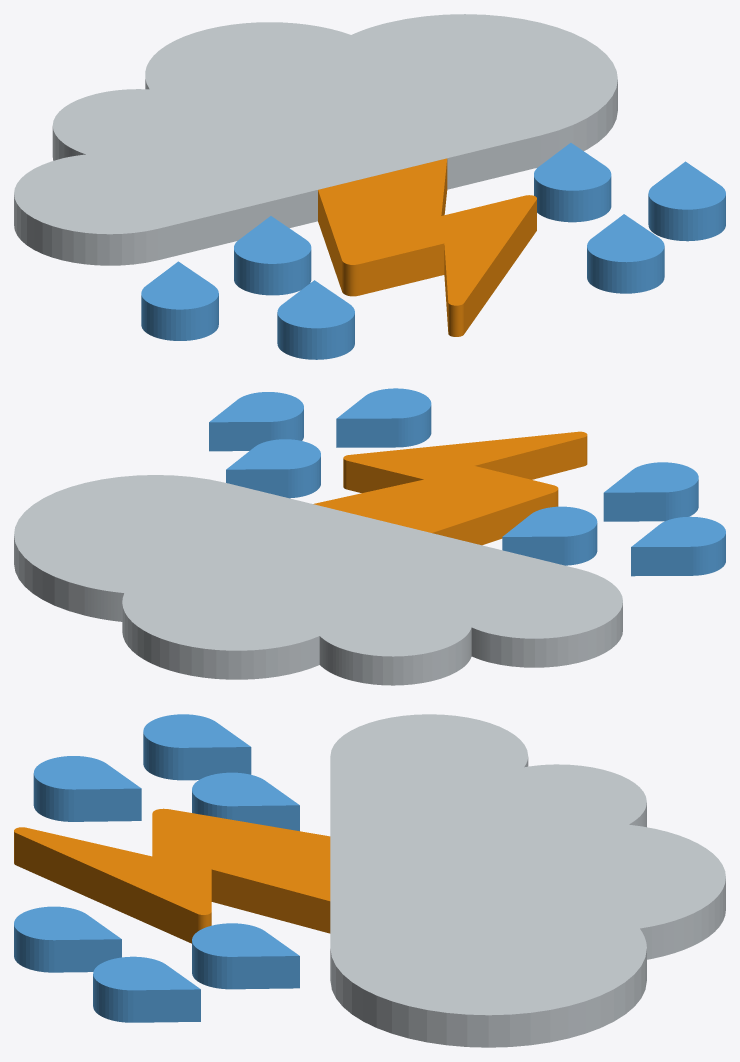
File: thunderstorm.gltf
The picture shows the model from 3 angles, top to bottom: view 1: azimuth 30°, elevation 25°; view 2: azimuth 150°, elevation 25°; view 3: azimuth 270°, elevation 25°; orthographic projection. The views are drawn at different scales.
Parts seen in each view (by area): view 1: Curve.001, Curve.002, Curve; view 2: Curve.001, Curve.002, Curve; view 3: Curve.001, Curve.002, Curve.
Boxes of the visible parts, bbox=[...] form: Curve.001: bbox=[14, 14, 617, 265]; Curve.002: bbox=[141, 143, 725, 359]; Curve: bbox=[318, 158, 536, 336]; Curve.001: bbox=[14, 475, 622, 685]; Curve.002: bbox=[209, 388, 725, 576]; Curve: bbox=[313, 431, 587, 545]; Curve.001: bbox=[330, 714, 725, 1047]; Curve.002: bbox=[14, 714, 299, 1022]; Curve: bbox=[14, 808, 330, 943].
Bounding box in the file's own units: 1.99 × 0.1 × 1.99.
